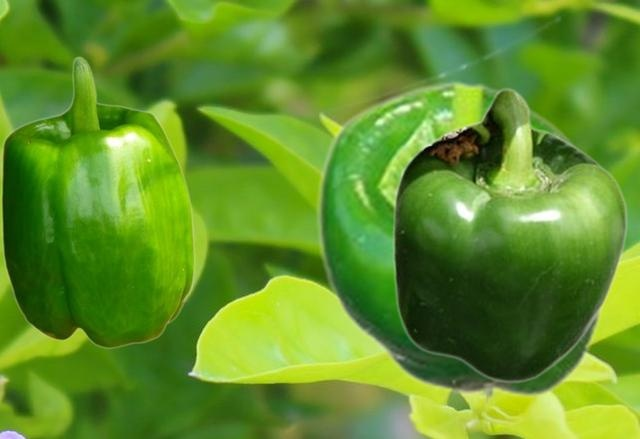bell_pepper: (314, 79, 604, 397), (391, 87, 627, 383), (0, 56, 194, 348)
